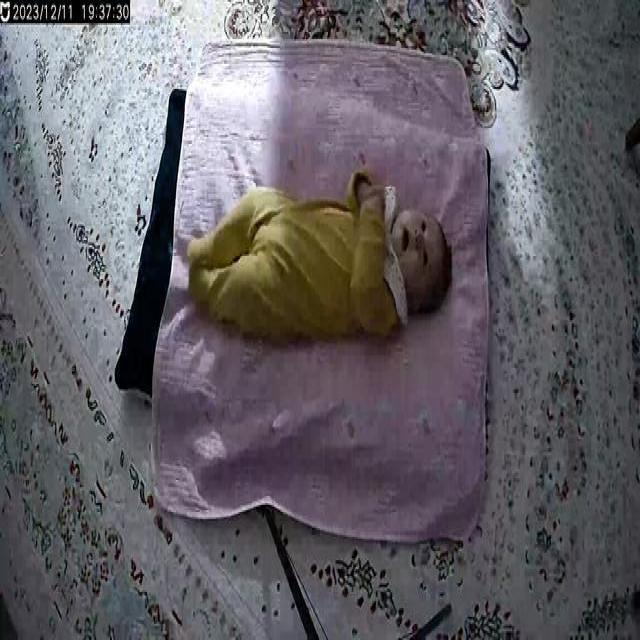baby: (184, 164, 456, 352)
